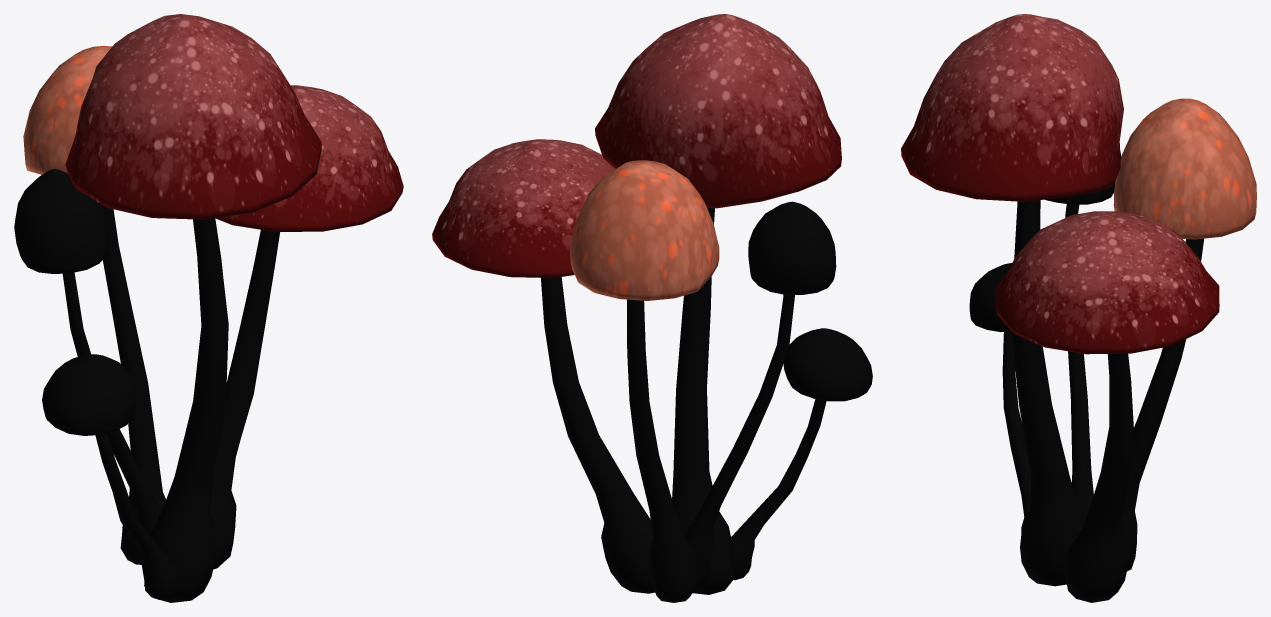
Rendered from realisticMushroom_edit_for_FBX.fbx.
The picture shows the model from 3 angles, left to right: view 1: azimuth 30°, elevation 25°; view 2: azimuth 150°, elevation 25°; view 3: azimuth 270°, elevation 25°; orthographic projection. The views are drawn at different scales.
Visible parts, largest first — view 1: mushroom01; view 2: mushroom01; view 3: mushroom01.
Boxes of the visible parts, bbox=[...] form: mushroom01: bbox=[14, 14, 403, 602]; mushroom01: bbox=[432, 14, 872, 602]; mushroom01: bbox=[901, 14, 1256, 602].
Size of the model in its own units: 3.92 by 5.7 by 3.27.
